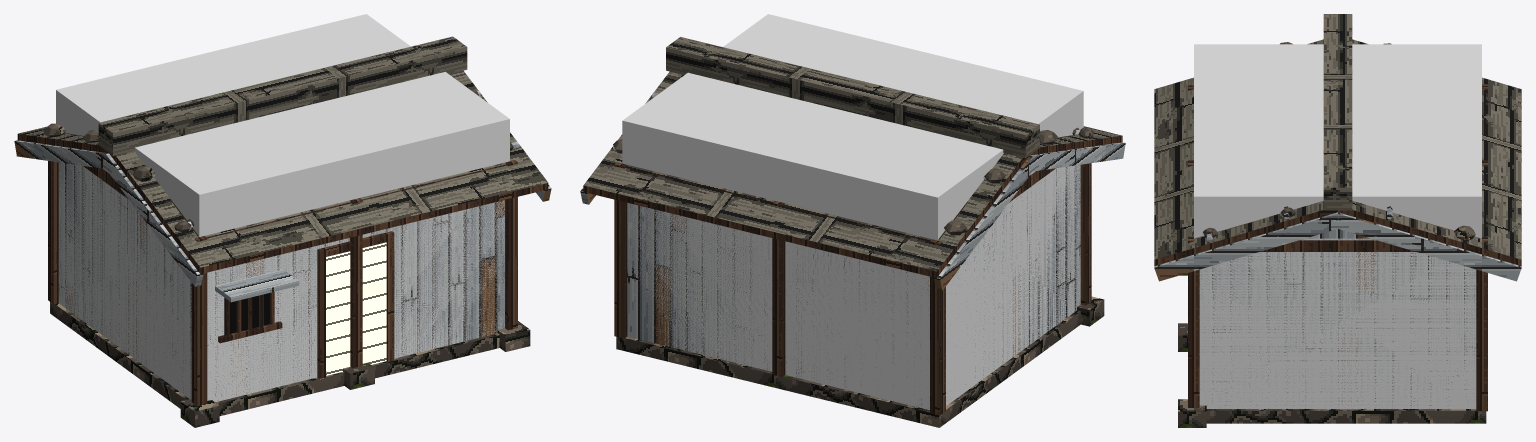
Rendered from JP_Poor_FishStore_A.glb.
3 views of the same model, side by side, from view 1: azimuth 30°, elevation 25°; view 2: azimuth 150°, elevation 25°; view 3: azimuth 270°, elevation 25° (orthographic).
Parts seen in each view (by area): view 1: COL_JP_Poor_FishStore_A, JP_Poor_FishStore_A; view 2: COL_JP_Poor_FishStore_A, JP_Poor_FishStore_A; view 3: COL_JP_Poor_FishStore_A, JP_Poor_FishStore_A.
Boxes of the visible parts, x1,y1,x2,y2 form: COL_JP_Poor_FishStore_A: [56, 14, 509, 402]; JP_Poor_FishStore_A: [14, 36, 551, 427]; COL_JP_Poor_FishStore_A: [622, 14, 1083, 410]; JP_Poor_FishStore_A: [580, 37, 1125, 427]; COL_JP_Poor_FishStore_A: [1194, 44, 1481, 408]; JP_Poor_FishStore_A: [1154, 14, 1521, 427].
Size of the model in its own units: 5.7 by 3.75 by 5.1.
7 materials, 7 textured.
